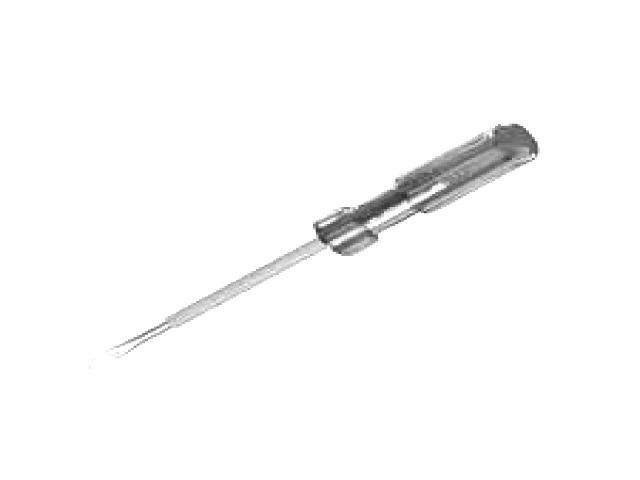Screwdriver: (86, 124, 538, 369)
